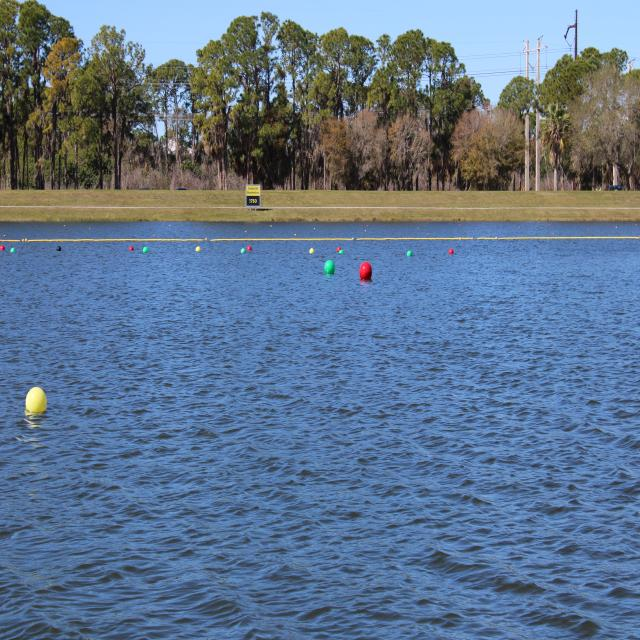green-buoy: (327, 261, 337, 277), (143, 246, 149, 255), (241, 247, 247, 255), (10, 247, 16, 254), (340, 248, 345, 256)
red-buoy: (359, 263, 372, 283), (450, 248, 456, 256), (245, 243, 250, 250), (130, 245, 135, 252)
yellow-buoy: (26, 388, 48, 416), (197, 243, 202, 252), (308, 245, 313, 253)
